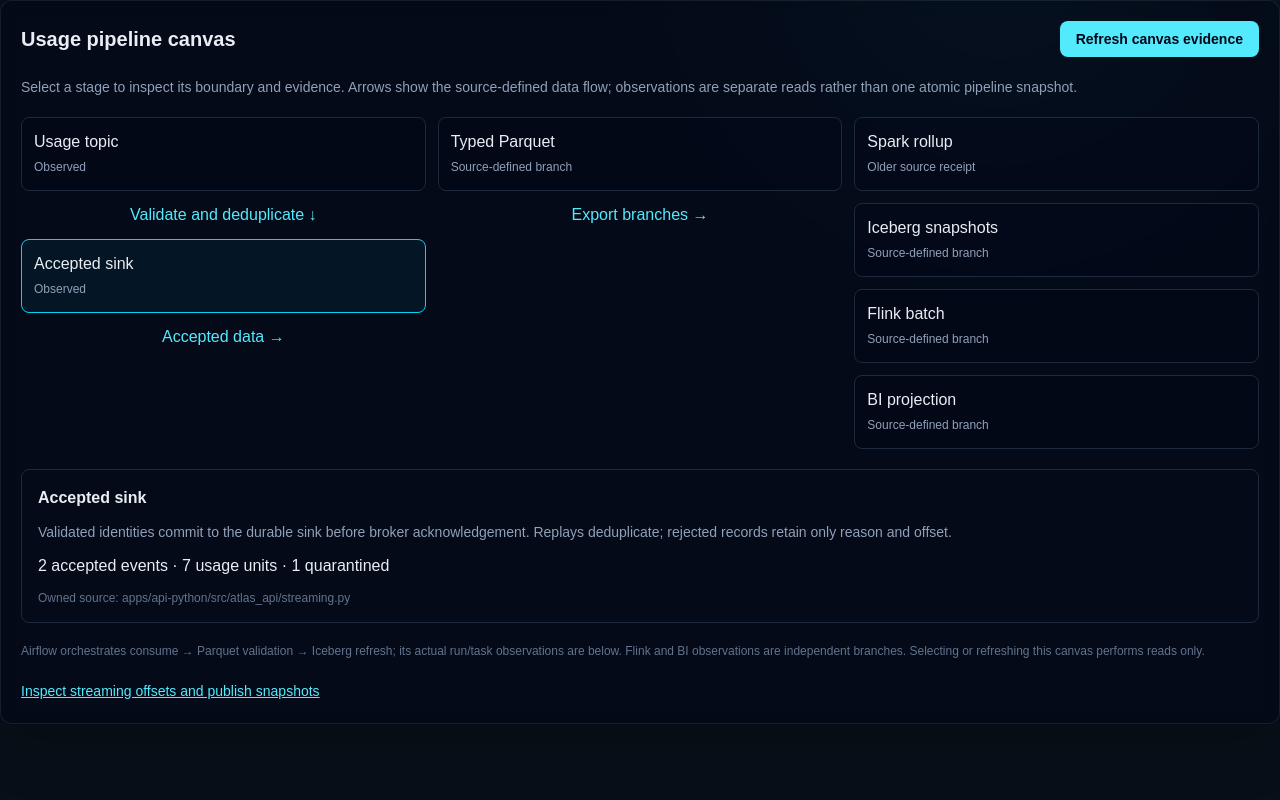
Test case: selects actual lag/retention and stale lineage without implying branch runtime health
The image size is (1280, 800).
Expected: the text "2 accepted events · 7 usage units · 1 quarantined" is shown, [38,557,389,574]
Step 1. Click the button "Usage topic Observed" → (76, 142), box [21,117,426,191]
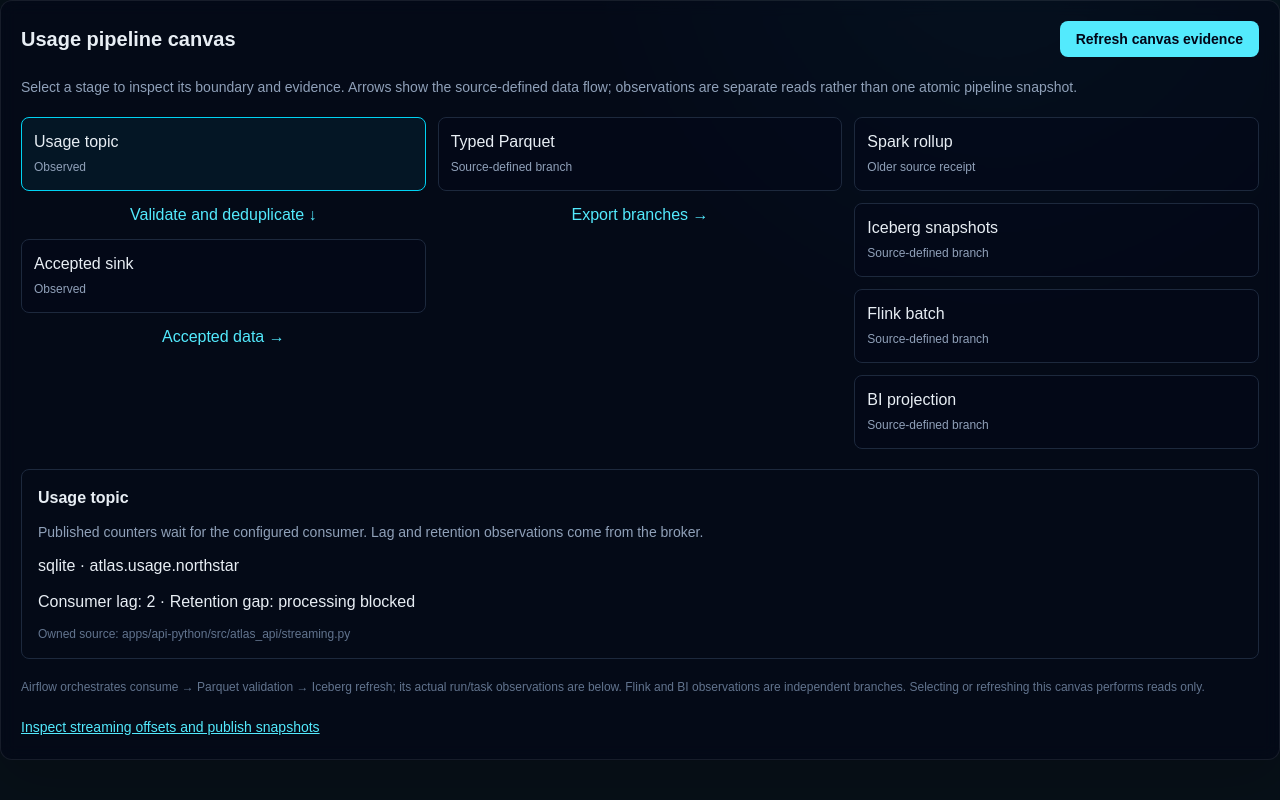
Now the text "Consumer lag: 2 · Retention gap: processing blocked" is shown, box [38,593,415,610]
Step 2. Click the button "Spark rollup Older source receipt" → (910, 142), box [854,117,1259,191]
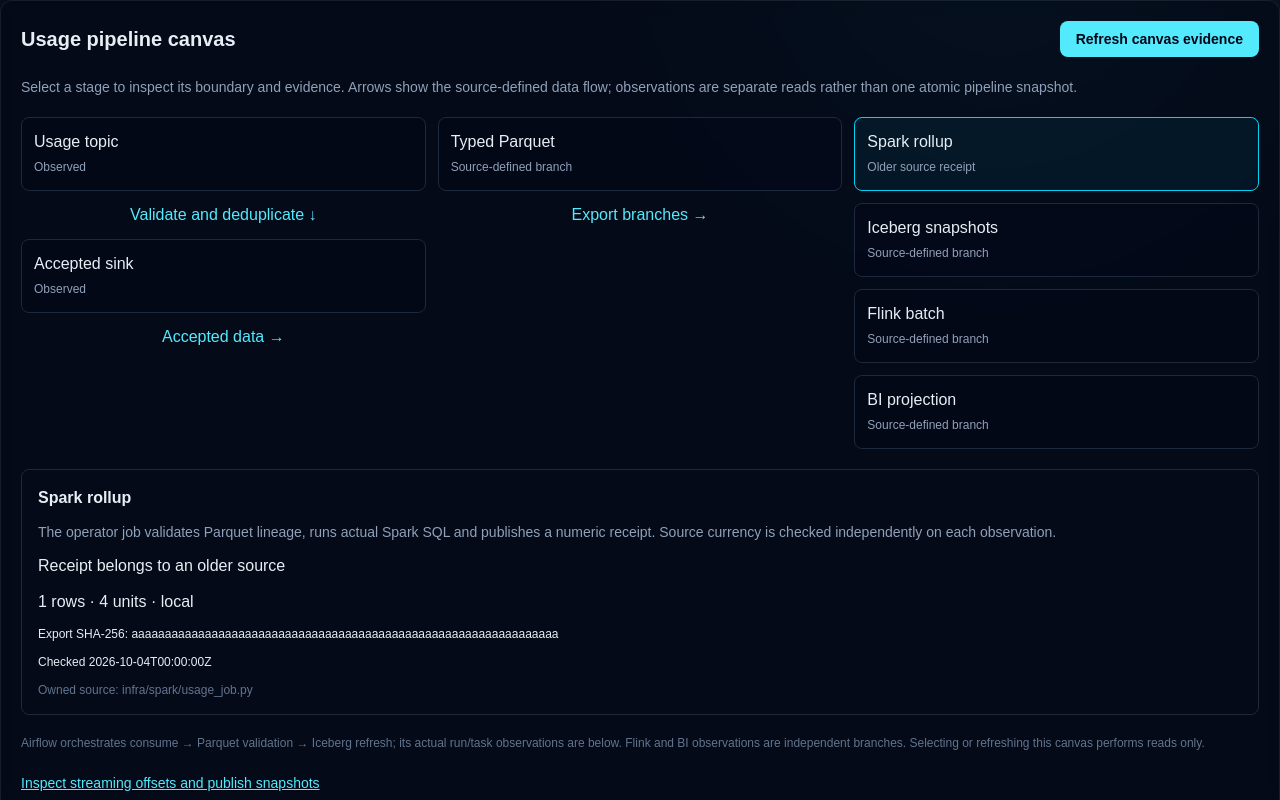
Expected: the button "Iceberg snapshots Source-defined branch" is shown, [854,203,1259,277]
Now the text "Receipt belongs to an older source" is shown, box [38,557,285,574]
